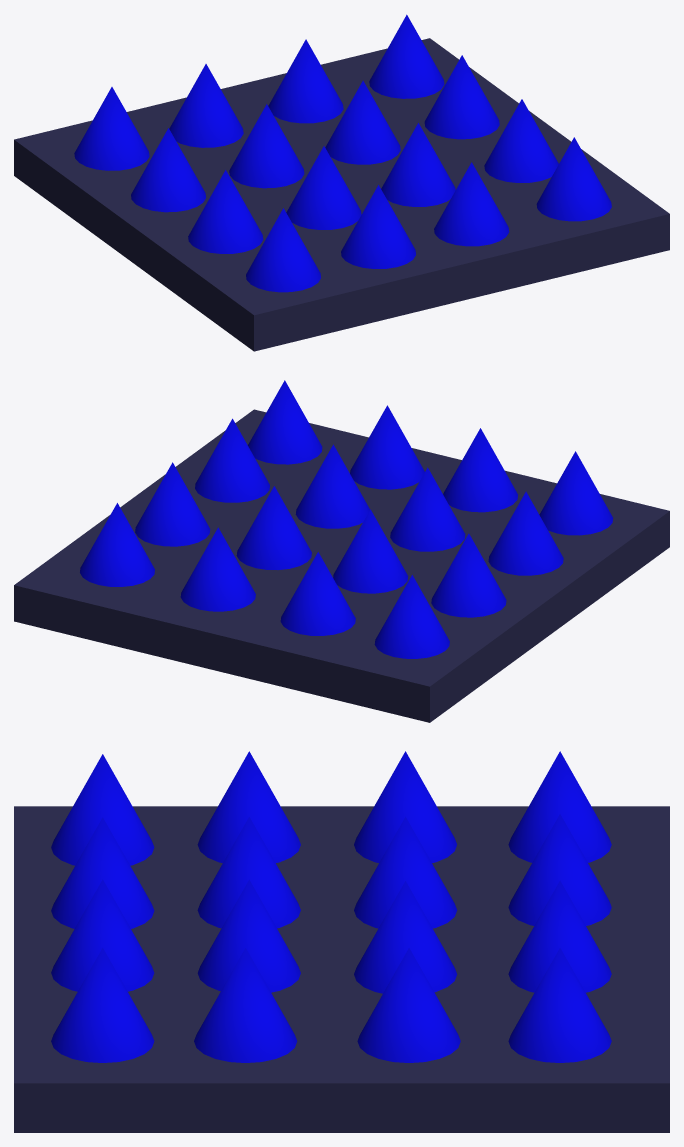
File: p_trap_1.fbx
3 renders of one model, top to bottom at view 1: azimuth 30°, elevation 25°; view 2: azimuth 150°, elevation 25°; view 3: azimuth 270°, elevation 25°, orthographic. The views are drawn at different scales.
Parts seen in each view (by area): view 1: pCube1, pCone3, pCone7, pCone15, pCone4, pCone6, pCone1, pCone12, pCone10, pCone11, pCone8, pCone2 (+5 smaller); view 2: pCube1, pCone11, pCone6, pCone15, pCone14, pCone5, pCone12, pCone8, pCone9, pCone10, pCone7, pCone16 (+5 smaller); view 3: pCube1, pCone7, pCone6, pCone5, pCone4, pCone3, pCone13, pCone8, pCone16, pCone9, pCone11, pCone12 (+5 smaller).
Part boxes in pixels (<box>): pCube1: <box>14,38,669,351</box>; pCone3: <box>434,162,509,246</box>; pCone7: <box>369,14,444,98</box>; pCone15: <box>229,104,304,188</box>; pCone4: <box>536,137,611,221</box>; pCone6: <box>424,55,499,139</box>; pCone1: <box>246,208,320,292</box>; pCone12: <box>188,170,263,253</box>; pCone10: <box>74,87,149,170</box>; pCone11: <box>131,128,205,212</box>; pCone8: <box>268,39,343,123</box>; pCone2: <box>341,185,415,268</box>; pCube1: <box>14,409,669,722</box>; pCone11: <box>431,533,506,617</box>; pCone6: <box>135,462,210,546</box>; pCone15: <box>333,509,408,593</box>; pCone14: <box>390,467,465,551</box>; pCone5: <box>195,418,269,502</box>; pCone12: <box>488,491,563,575</box>; pCone8: <box>180,527,255,611</box>; pCone9: <box>280,552,355,635</box>; pCone10: <box>374,575,449,658</box>; pCone7: <box>80,503,154,586</box>; pCone16: <box>236,486,311,569</box>; pCube1: <box>14,806,669,1132</box>; pCone7: <box>508,948,611,1062</box>; pCone6: <box>357,948,460,1062</box>; pCone5: <box>194,948,297,1062</box>; pCone4: <box>51,948,154,1062</box>; pCone3: <box>51,879,154,991</box>; pCone13: <box>197,879,300,992</box>; pCone8: <box>508,880,611,992</box>; pCone16: <box>354,881,457,993</box>; pCone9: <box>508,814,611,925</box>; pCone11: <box>354,751,456,862</box>; pCone12: <box>197,751,300,863</box>.
Bounding box in the file's own units: 300 × 128 × 300.
